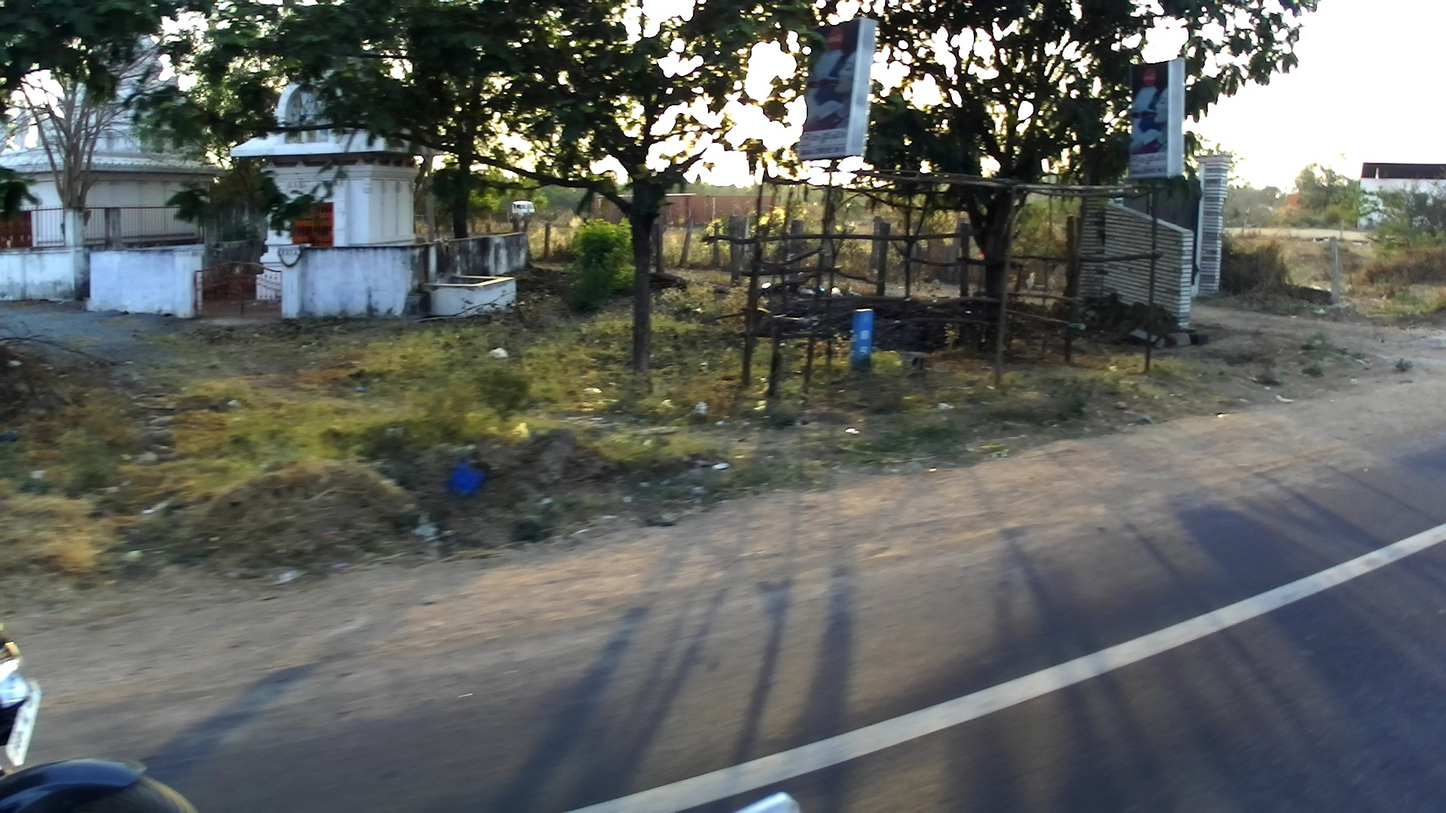car: (504, 196, 538, 220)
motorcycle: (1, 622, 197, 813)
